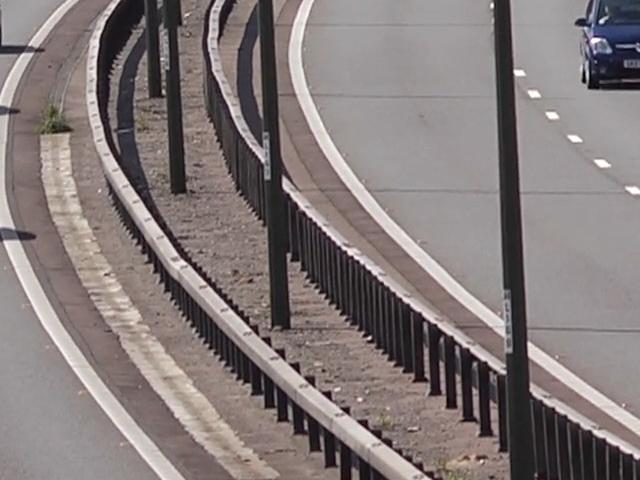car: (569, 0, 640, 90)
